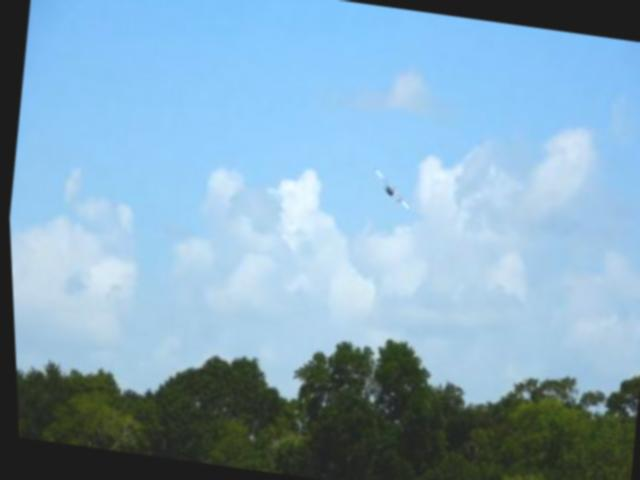uav: (365, 162, 417, 210)
